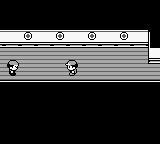main: (65, 61, 78, 75)
no-caminable: (0, 81, 159, 143), (0, 0, 159, 48), (1, 31, 147, 47), (148, 48, 159, 64)
npc: (5, 60, 19, 75)
